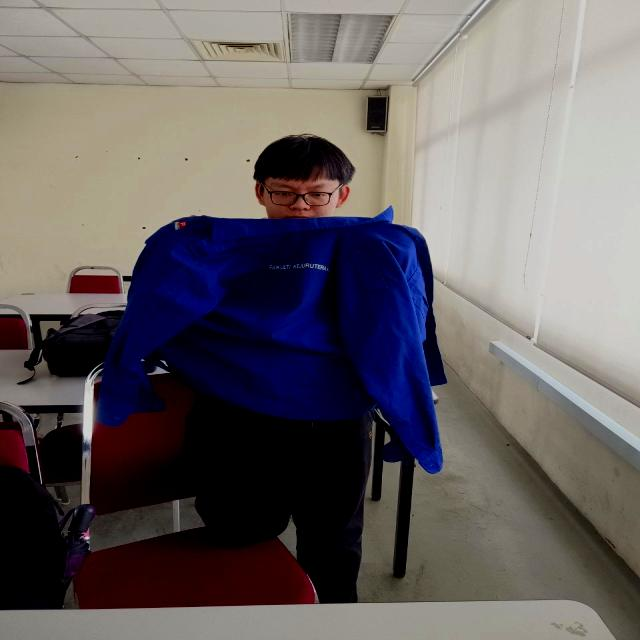person_without_labcoat: (97, 136, 445, 602)
